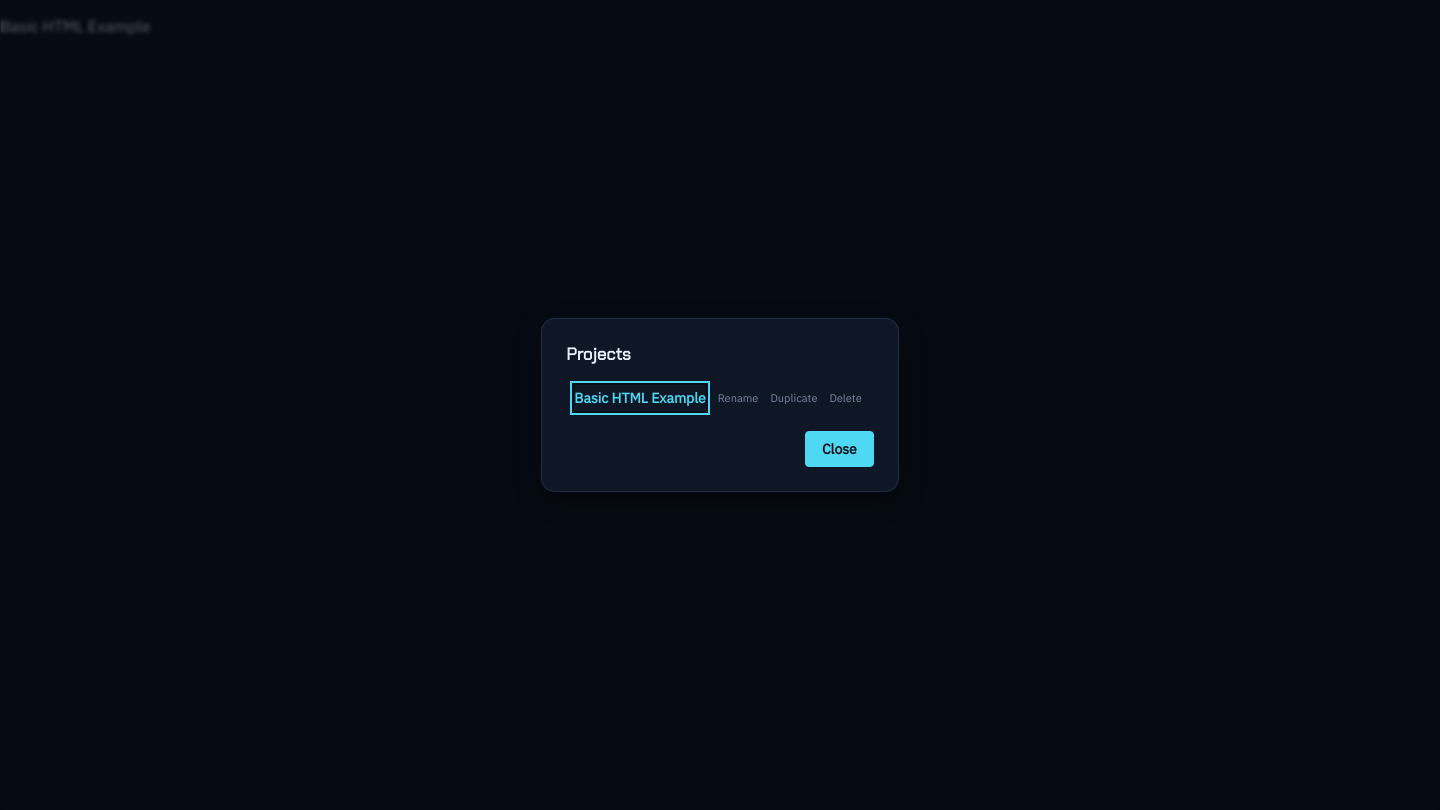
Test: ProjectSwitcherDialog › reverts an inline rename on Escape without closing the dialog
Click the button with aria-label "Rename Basic HTML Example" at x=738, y=398, box [714,387,762,409]
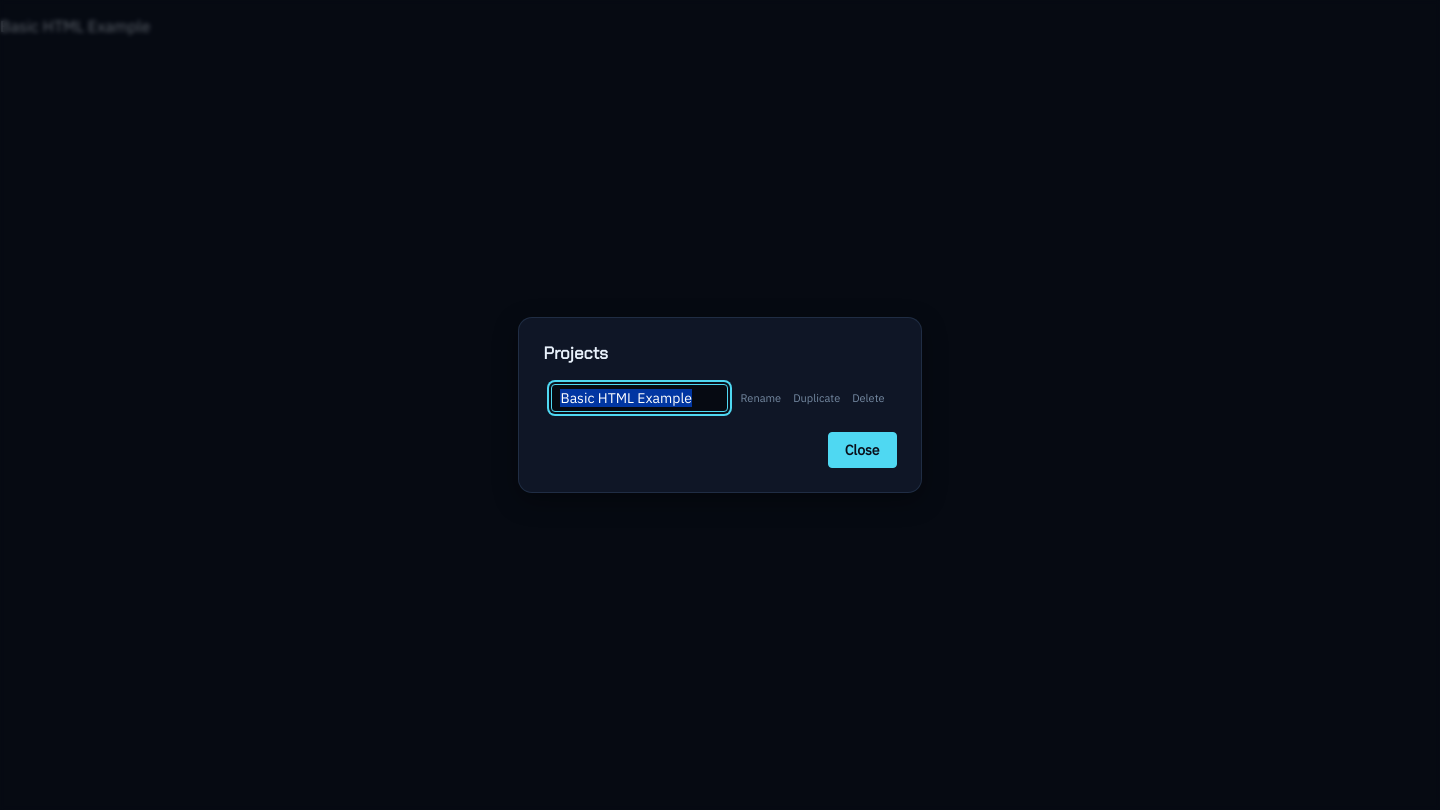
Replace the text in the field named "New title for Basic HTML Example" with "Should not be saved" at x=640, y=398, box [552,384,728,412]
Then press Escape
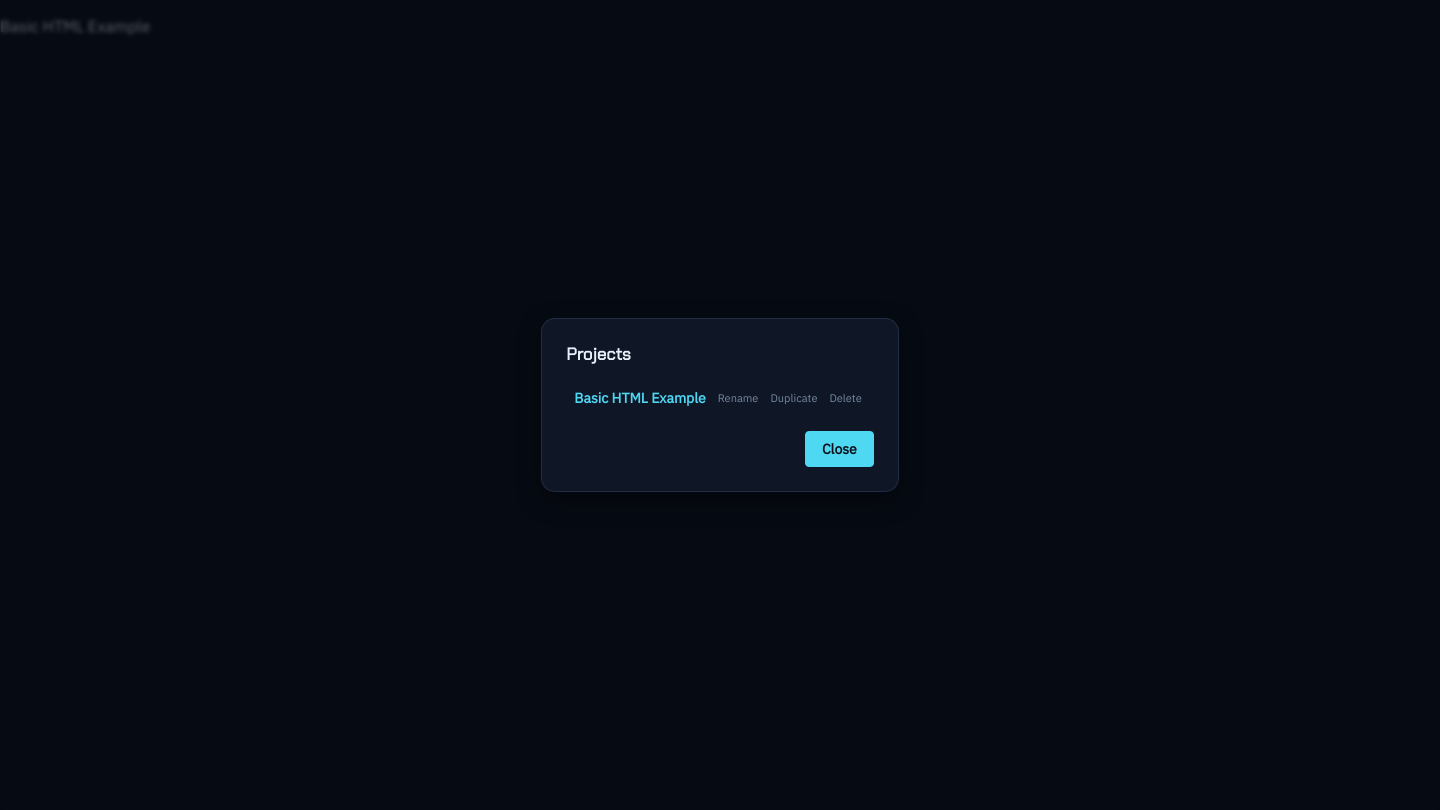
expect the button "Basic HTML Example" is shown: met, box [574,385,706,411]
